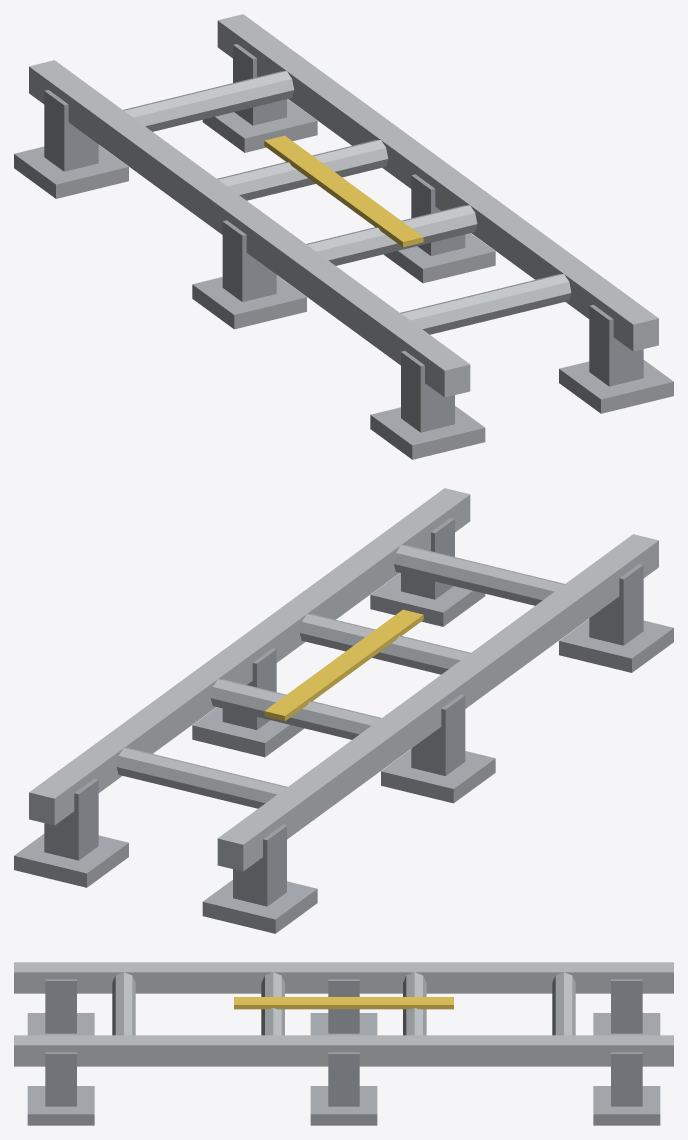
The model's file is prop_ladder.glb.
3 views of the same model, one above another, from view 1: azimuth 30°, elevation 25°; view 2: azimuth 150°, elevation 25°; view 3: azimuth 270°, elevation 25° (orthographic). The views are drawn at different scales.
Visible parts, largest first — view 1: prop_ladder; view 2: prop_ladder; view 3: prop_ladder.
Boxes of the visible parts, x1,y1,x2,y2 form: prop_ladder: (14,14,673,459); prop_ladder: (14,488,673,933); prop_ladder: (14,962,673,1125).
Size of the model in its own units: 0.305 by 0.104 by 0.84.
